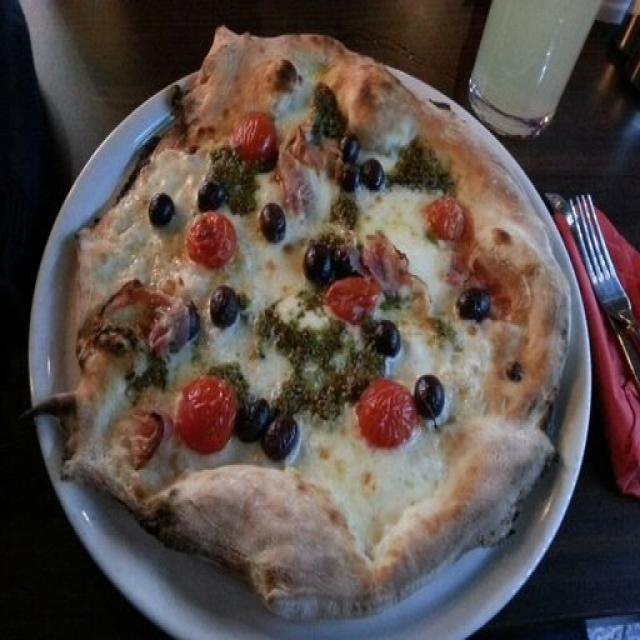Cheese: (373, 194, 419, 232), (252, 244, 288, 292)
Ham: (114, 293, 173, 344), (283, 128, 314, 204), (359, 233, 398, 283), (138, 406, 164, 473)
Olives: (413, 373, 445, 422), (266, 418, 298, 464), (233, 398, 267, 440), (302, 244, 332, 279), (210, 288, 239, 324), (261, 201, 286, 239), (457, 290, 488, 320), (361, 157, 388, 191), (372, 322, 399, 355), (149, 191, 174, 224), (339, 132, 360, 164), (337, 164, 360, 189)
Pizza: (56, 28, 568, 623)
Tomato: (176, 379, 234, 453), (358, 376, 414, 444), (184, 211, 237, 266), (235, 109, 275, 159), (328, 277, 374, 320), (428, 196, 464, 241)
